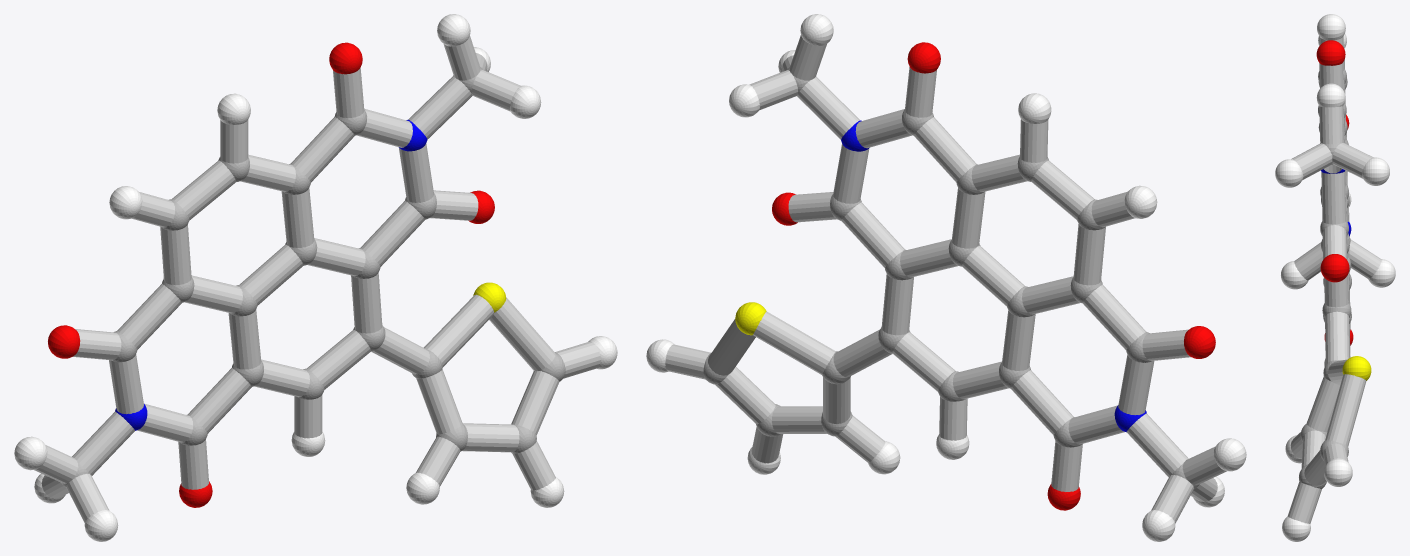
The model's file is Dimethyl_Naphthalene_Dicarboximide_Phi_10_Theta_160_Thiophene.glb.
3 views of the same model, side by side, from view 1: azimuth 30°, elevation 25°; view 2: azimuth 150°, elevation 25°; view 3: azimuth 270°, elevation 25° (orthographic). The views are drawn at different scales.
Visible parts, largest first — view 1: grp14119, grp7241, grp1, grp12309, grp11585; view 2: grp14119, grp7241, grp1, grp12309, grp11585, grp13757; view 3: grp14119, grp7241, grp1, grp12309, grp13757.
Boxes of the visible parts, <box> form: grp14119: <box>34,36,600,522</box>; grp7241: <box>14,14,617,541</box>; grp1: <box>61,67,565,487</box>; grp12309: <box>48,42,494,507</box>; grp11585: <box>115,119,427,430</box>; grp14119: <box>665,35,1226,523</box>; grp7241: <box>646,14,1246,541</box>; grp1: <box>703,67,1199,489</box>; grp12309: <box>772,42,1215,510</box>; grp11585: <box>841,120,1146,432</box>; grp13757: <box>735,302,766,335</box>; grp14119: <box>1287,36,1381,523</box>; grp7241: <box>1275,14,1395,541</box>; grp1: <box>1299,69,1351,488</box>; grp12309: <box>1316,40,1353,345</box>; grp13757: <box>1342,356,1371,380</box>.
Size of the model in its own units: 12.37 by 9.74 by 2.5.
